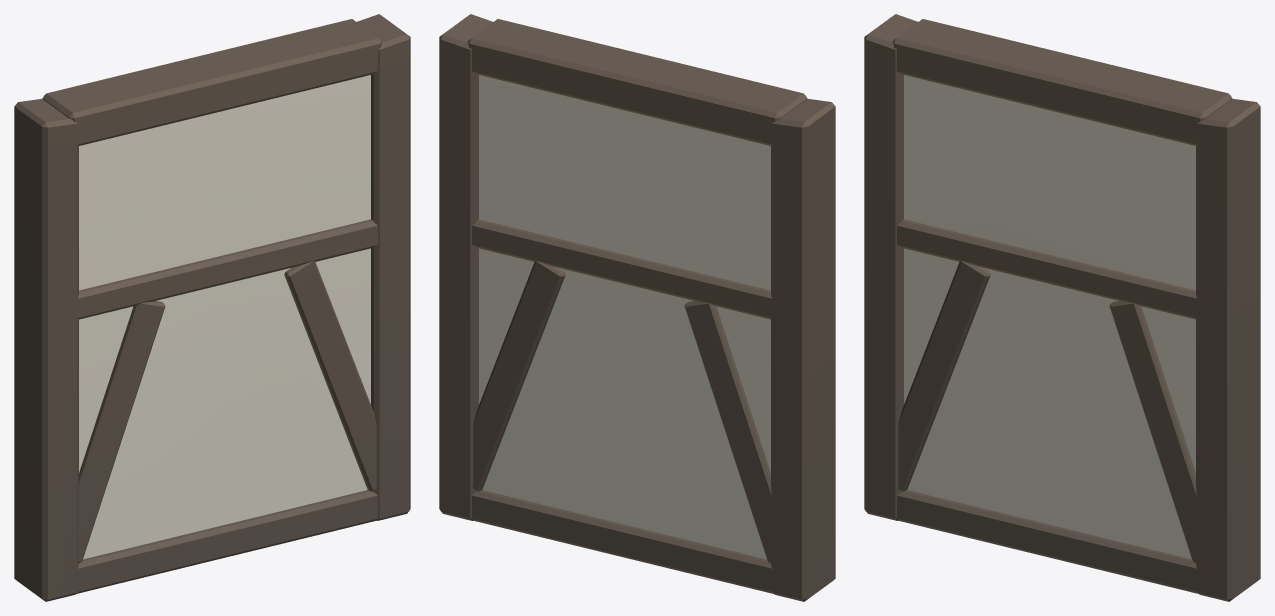
The model's file is Kit_Wall.glb.
3 views of the same model, side by side, from view 1: azimuth 30°, elevation 25°; view 2: azimuth 150°, elevation 25°; view 3: azimuth 330°, elevation 25° (orthographic).
Parts seen in each view (by area): view 1: Weathered walnut beams, Warm limewashed plaster; view 2: Weathered walnut beams, Warm limewashed plaster; view 3: Weathered walnut beams, Warm limewashed plaster.
Boxes of the visible parts, x1,y1,x2,y2 form: Weathered walnut beams: (14, 14, 410, 601); Warm limewashed plaster: (79, 75, 370, 559); Weathered walnut beams: (439, 14, 835, 601); Warm limewashed plaster: (479, 75, 770, 559); Weathered walnut beams: (864, 14, 1260, 601); Warm limewashed plaster: (904, 75, 1195, 559).
Bounding box in the file's own units: 2 × 2.5 × 0.3.
